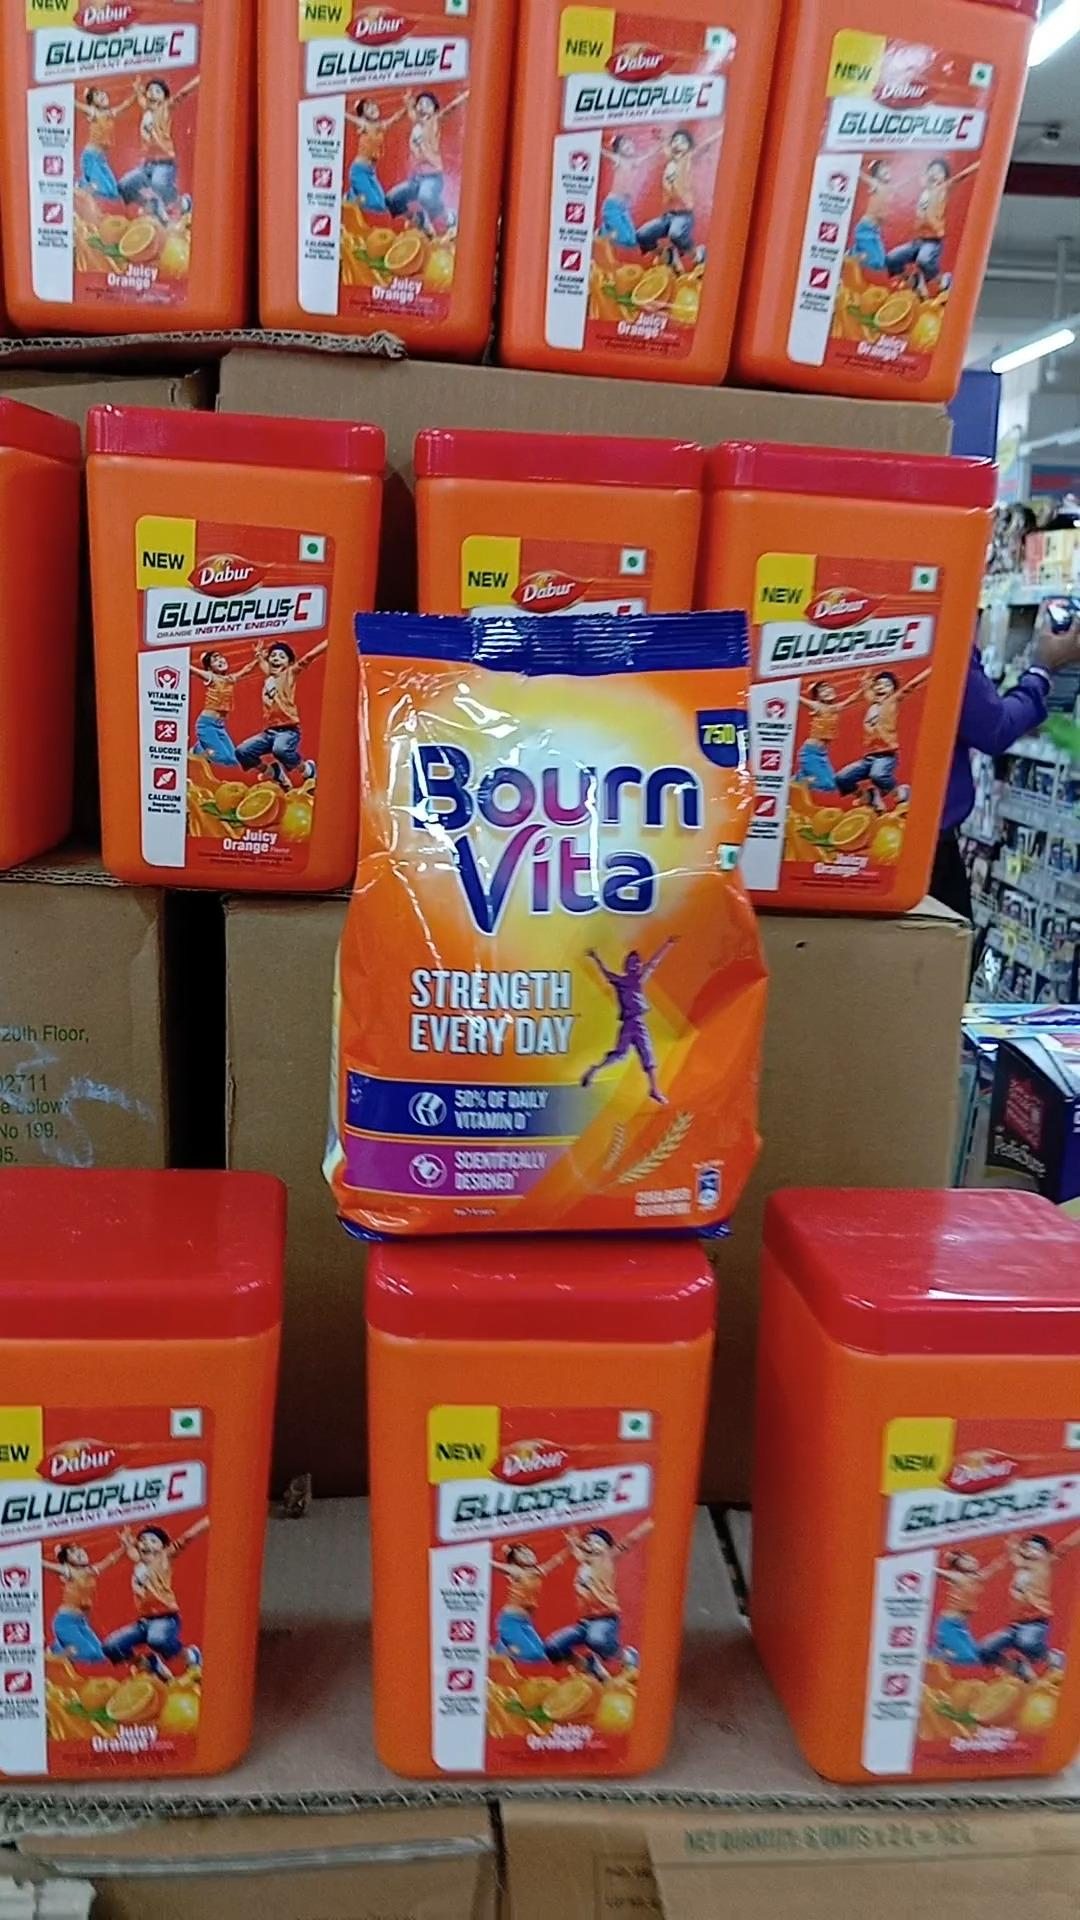BOURN_VITA_750_G_POUCH: (351, 604, 762, 1237)
